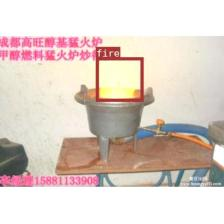fire: (96, 57, 142, 102)
